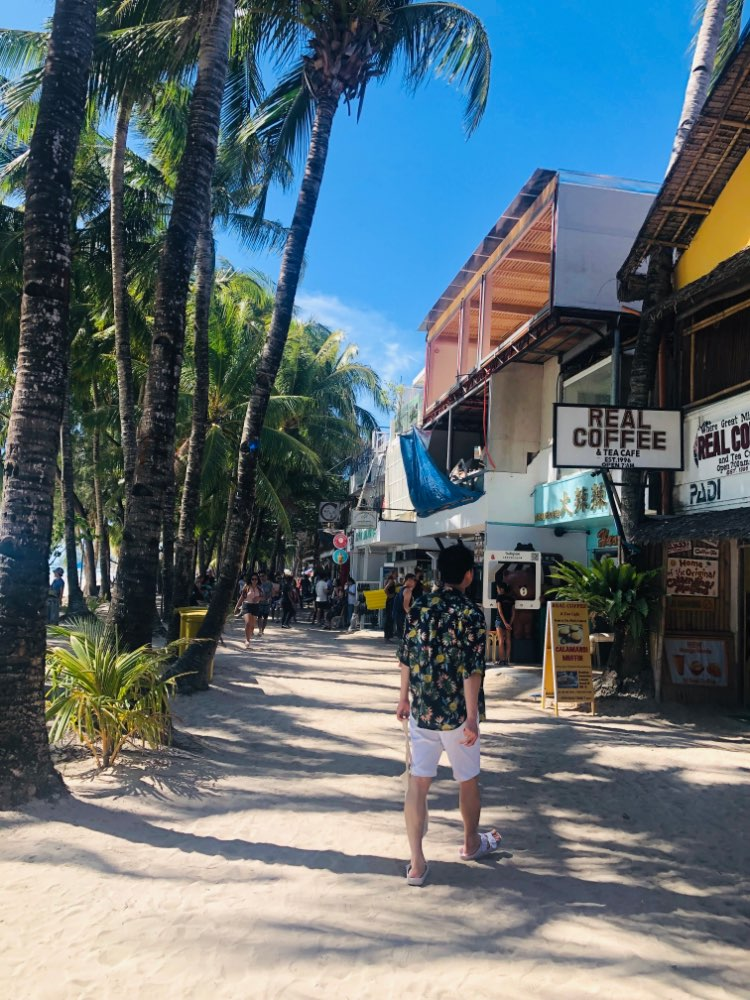shirts: (395, 589, 491, 761)
